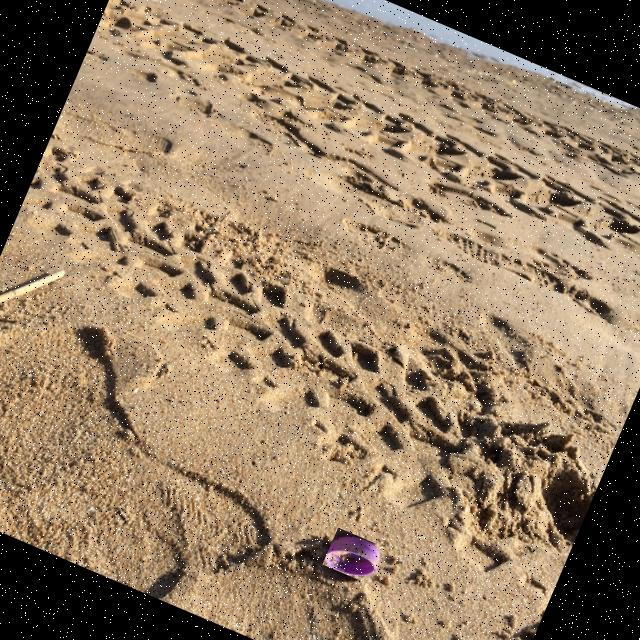Plastic bottle cap: (325, 537, 380, 577)
